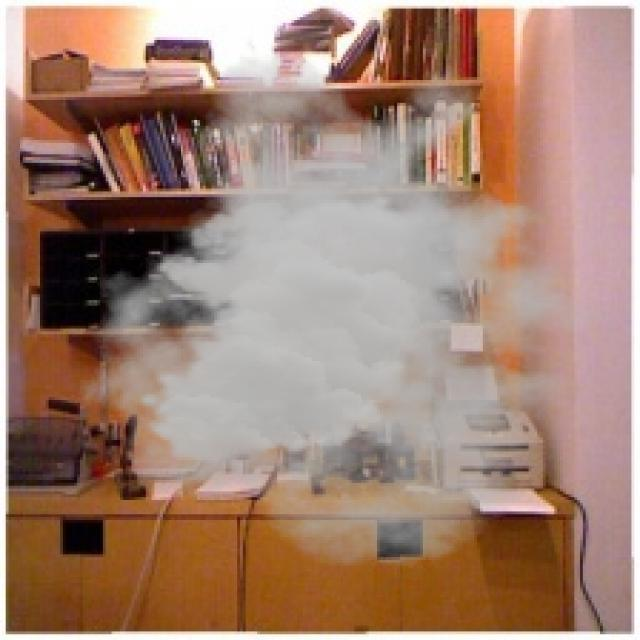Smoke: (77, 49, 629, 568)
